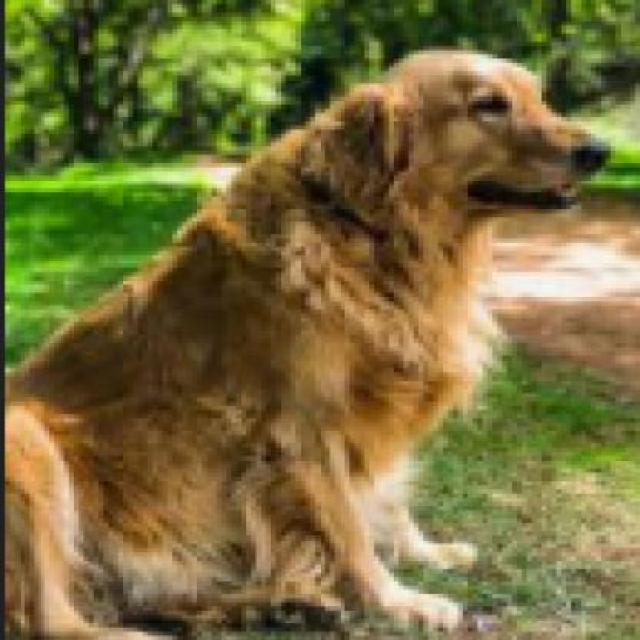Dog: (12, 45, 620, 629)
